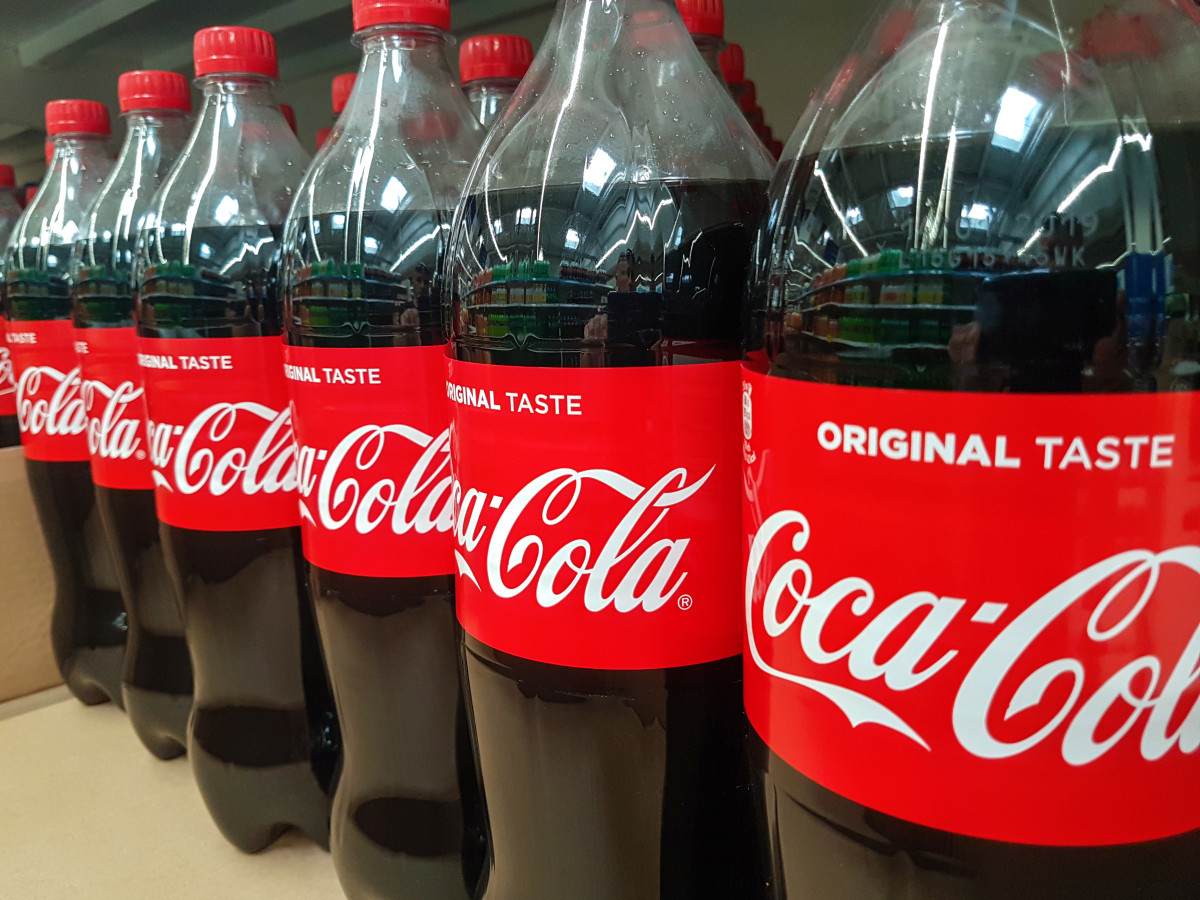Coca-Cola: (750, 15, 1200, 875), (469, 8, 723, 883), (312, 16, 462, 894), (149, 41, 310, 855), (24, 102, 140, 758)
